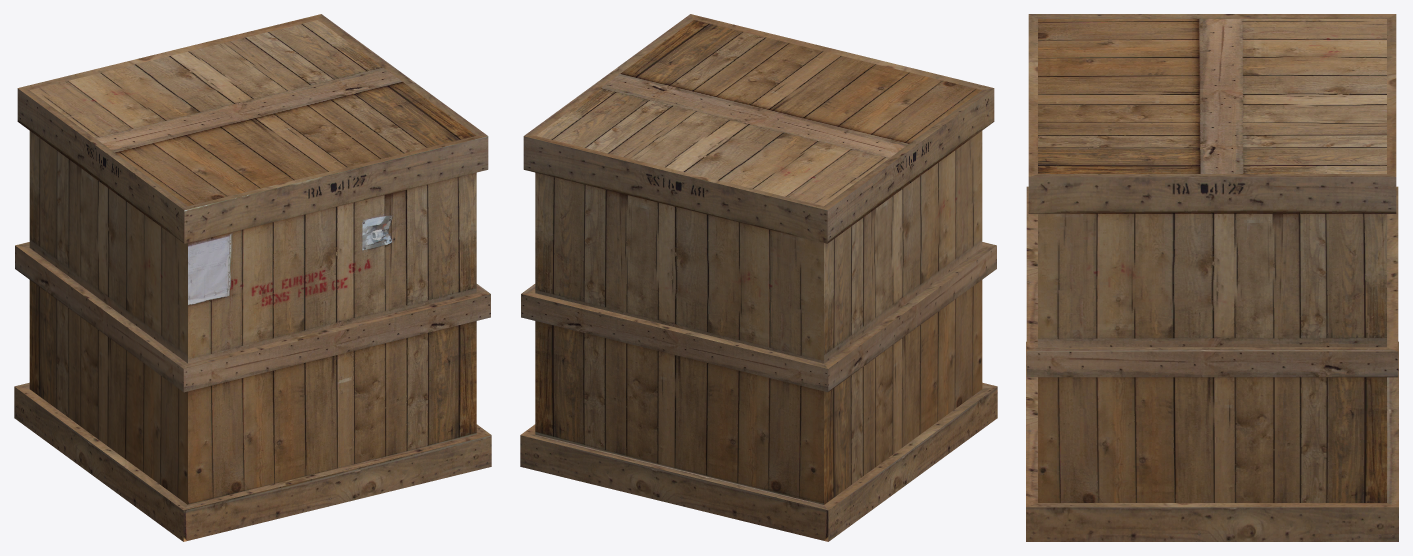
File: crate.obj
3 views of the same model, side by side, from view 1: azimuth 30°, elevation 25°; view 2: azimuth 150°, elevation 25°; view 3: azimuth 270°, elevation 25° (orthographic). The views are drawn at different scales.
Visible parts, largest first — view 1: crate; view 2: crate; view 3: crate.
Part boxes in pixels (x1,y1,x2,y2): crate: (14, 14, 491, 541); crate: (520, 14, 997, 541); crate: (1026, 14, 1398, 541).
Size of the model in its own units: 67.88 by 69.48 by 64.58.
1 material, 1 textured.
